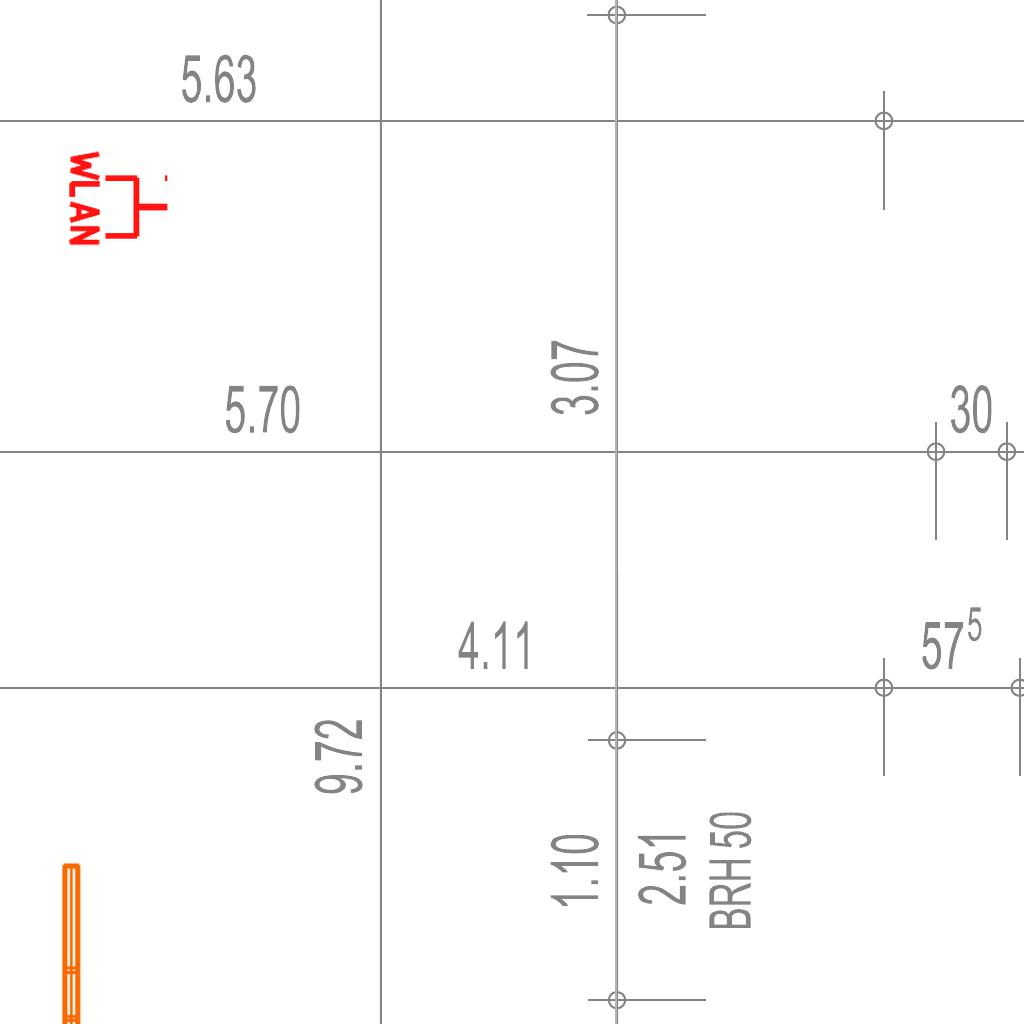Ambulanz_Pendelleuchte_LED: (56, 858, 112, 1024)
WLAN: (67, 146, 172, 250)
